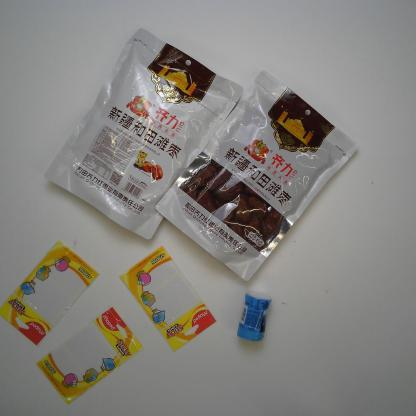Dried Food: (153, 70, 360, 282), (41, 27, 245, 241)
Gum: (236, 289, 274, 342)
Stationery: (0, 239, 102, 346), (34, 306, 143, 406), (119, 244, 216, 353)
